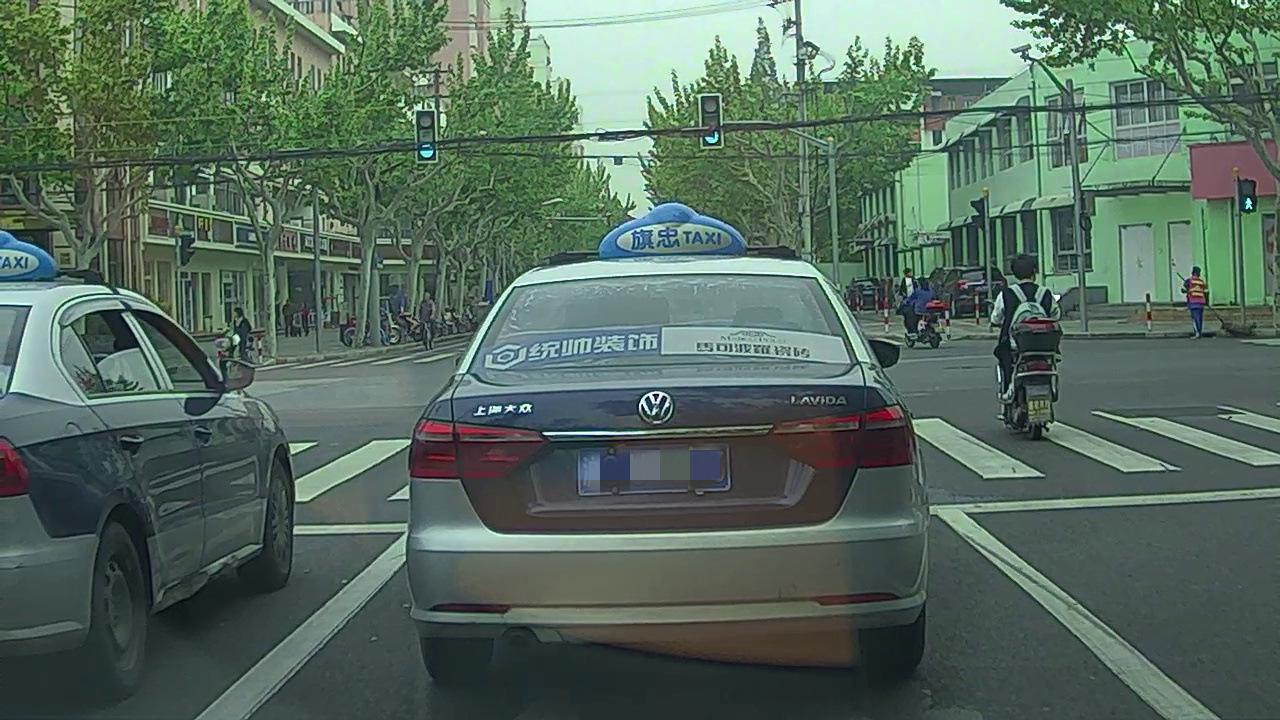traffic_light: (700, 94, 723, 145), (417, 109, 438, 163)
